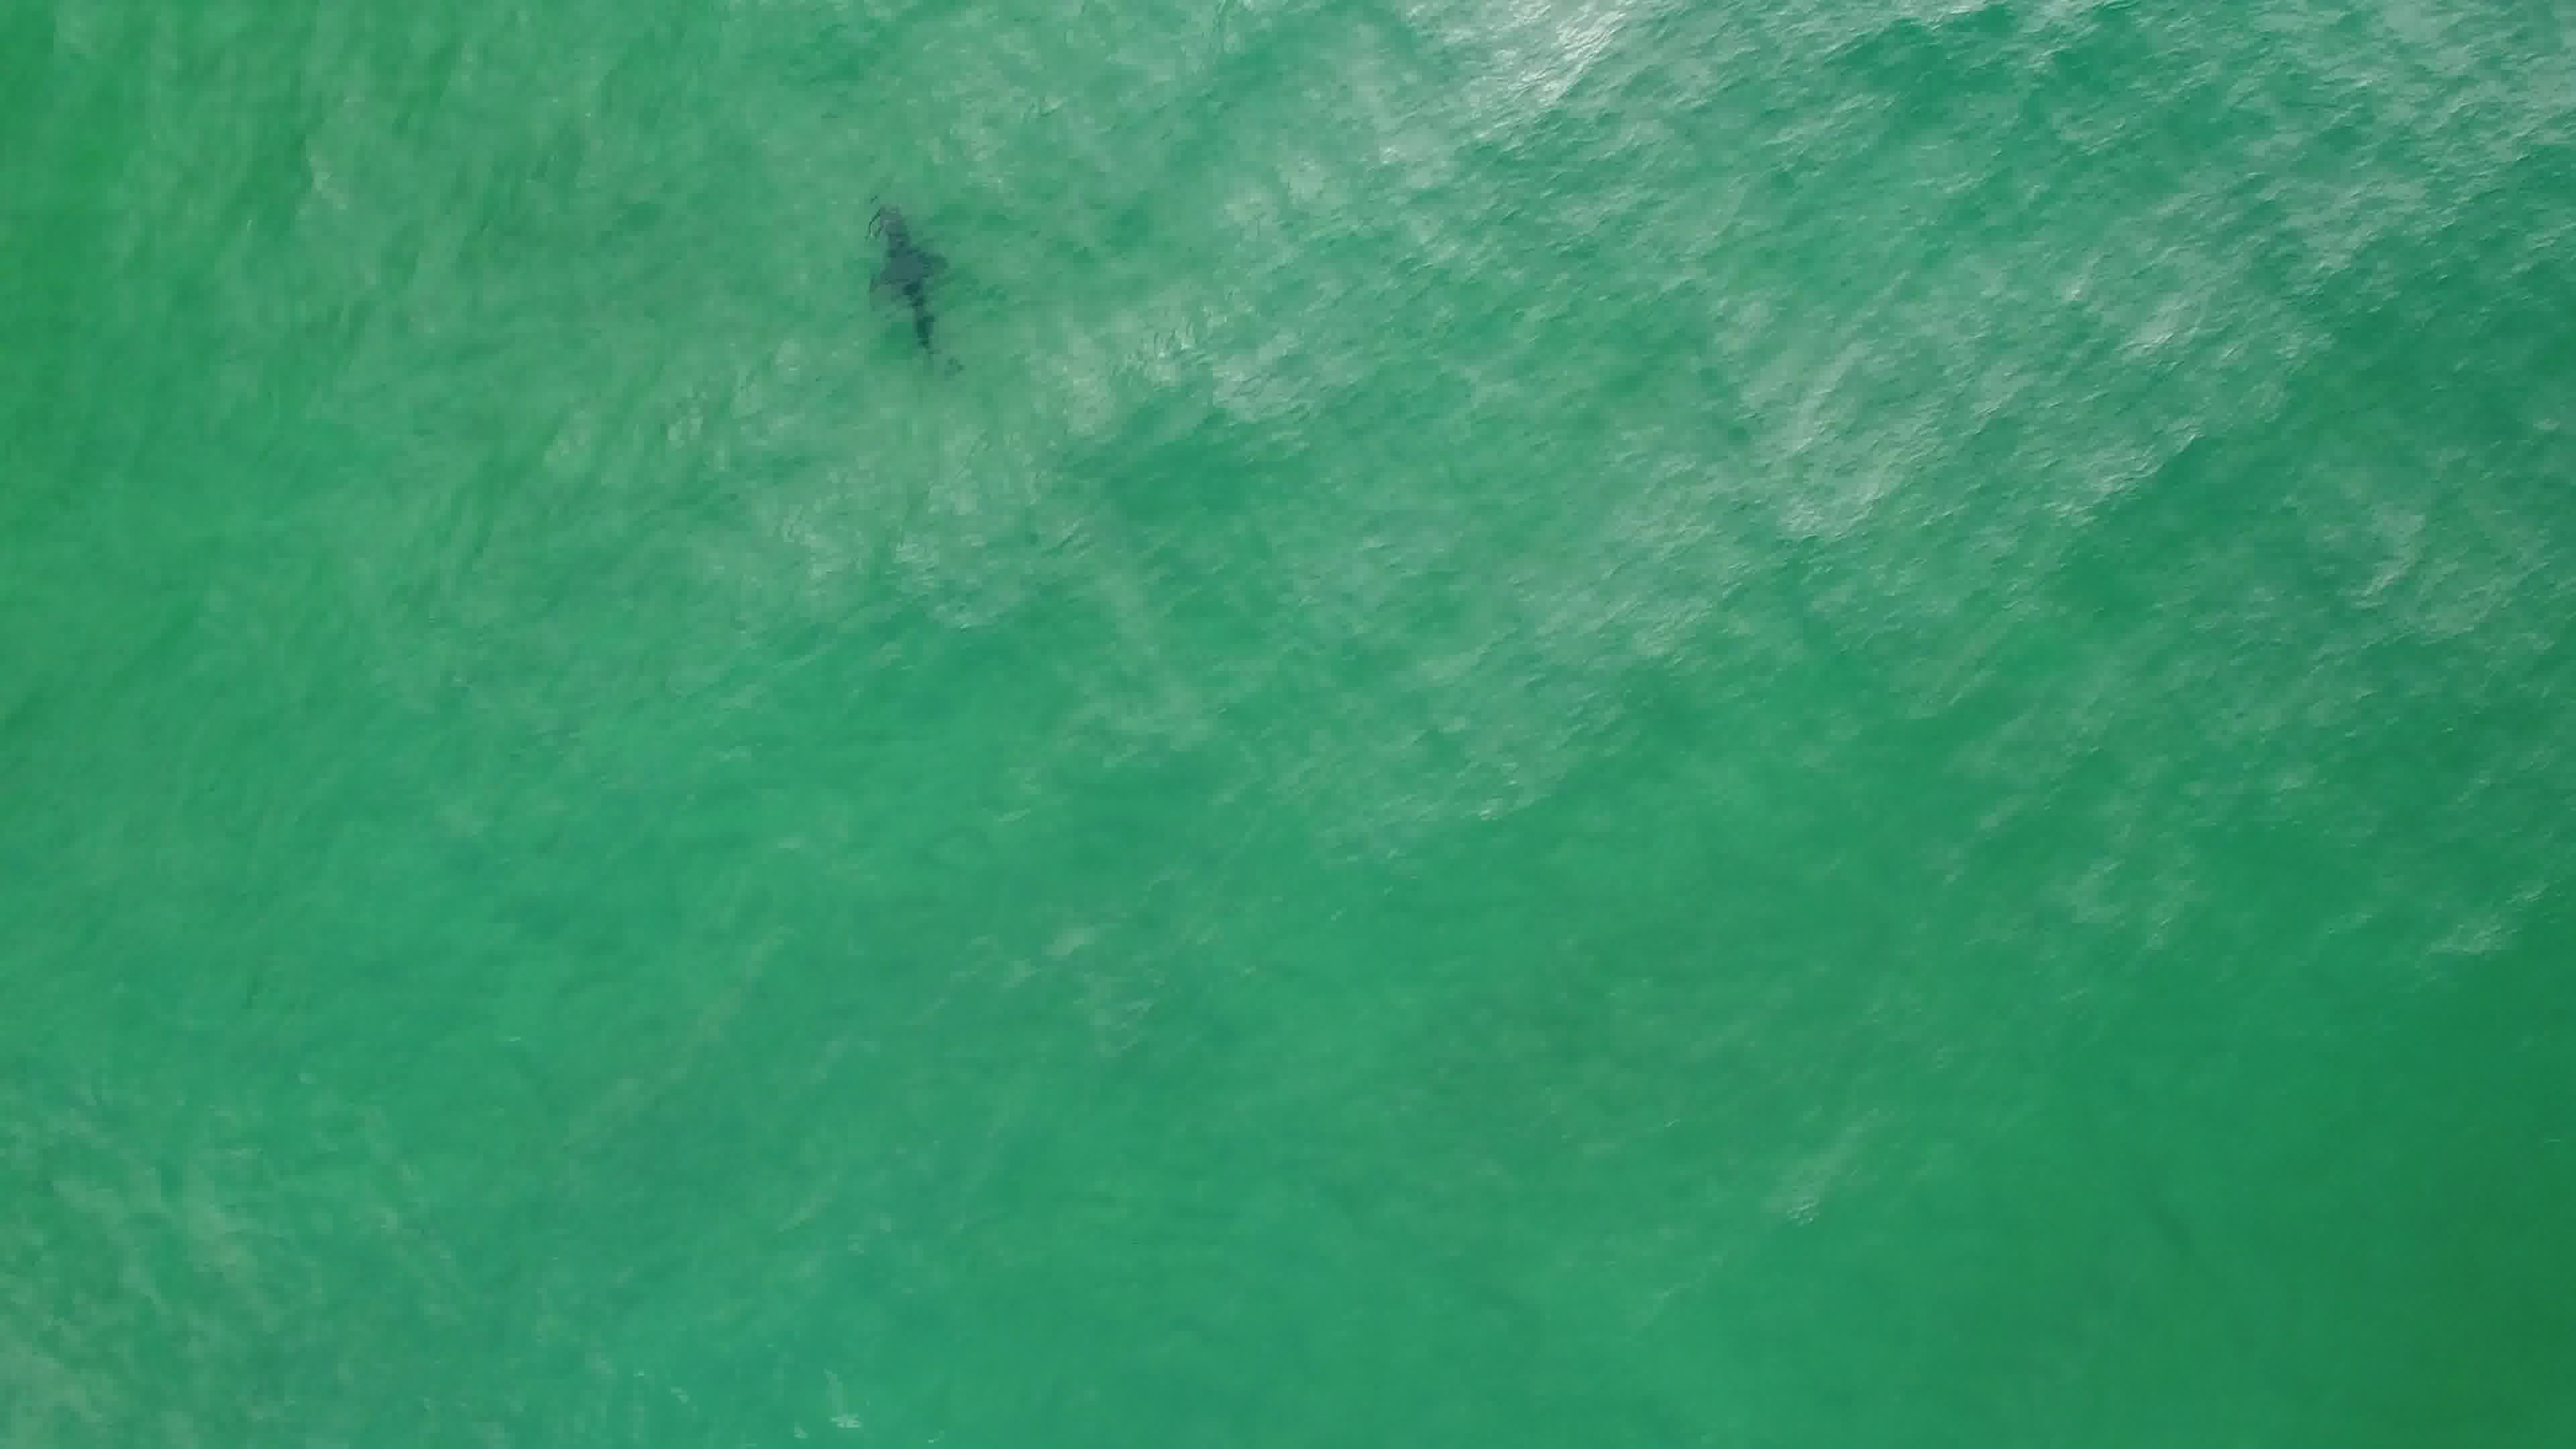shark: (855, 202, 950, 359)
